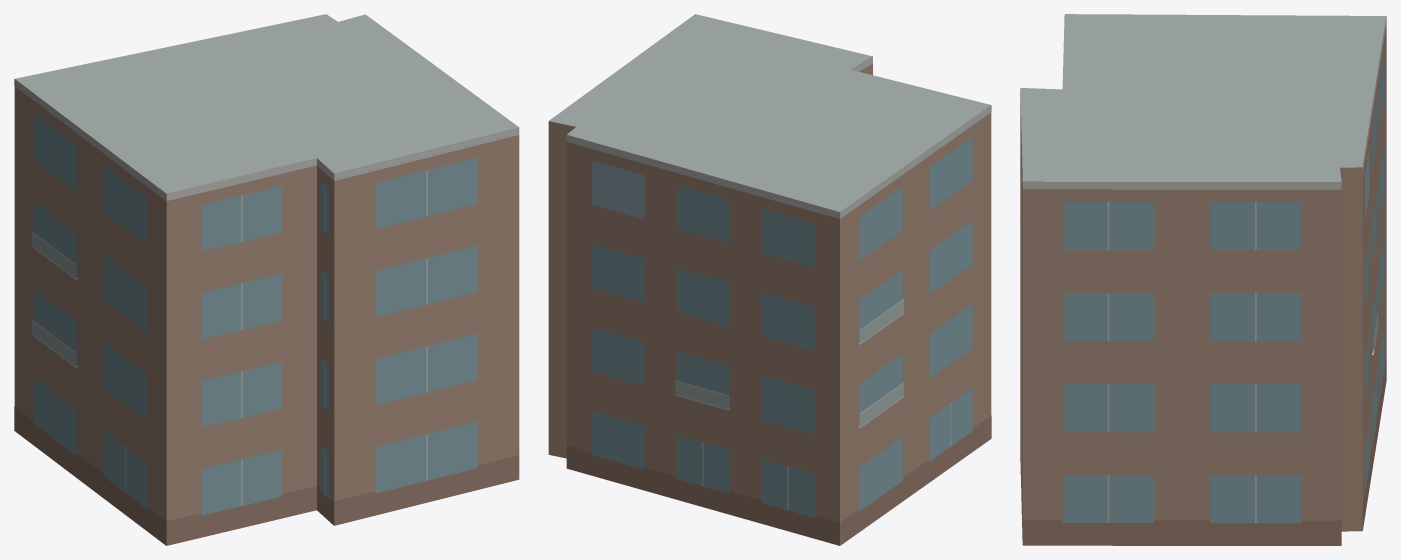
File: survey-upis-32859474.glb
3 renders of one model, left to right at view 1: azimuth 30°, elevation 25°; view 2: azimuth 150°, elevation 25°; view 3: azimuth 270°, elevation 25°, orthographic. The views are drawn at different scales.
Parts seen in each view (by area): view 1: survey-upis-32859474.tmp; view 2: survey-upis-32859474.tmp; view 3: survey-upis-32859474.tmp.
Part boxes in pixels (x1,y1,x2,y2): survey-upis-32859474.tmp: (14,14,519,545); survey-upis-32859474.tmp: (548,14,991,545); survey-upis-32859474.tmp: (1020,14,1386,545).
Size of the model in its own units: 11.5 by 11.6 by 10.59.
